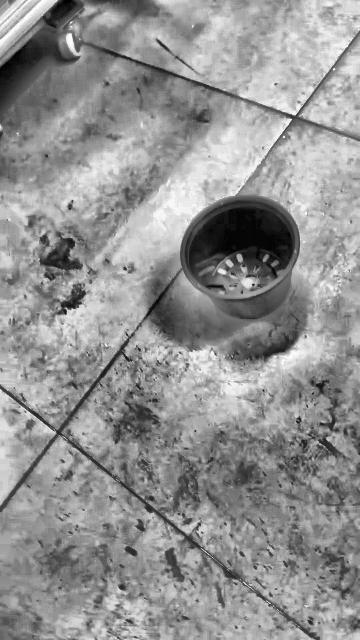pot: (181, 196, 300, 318)
